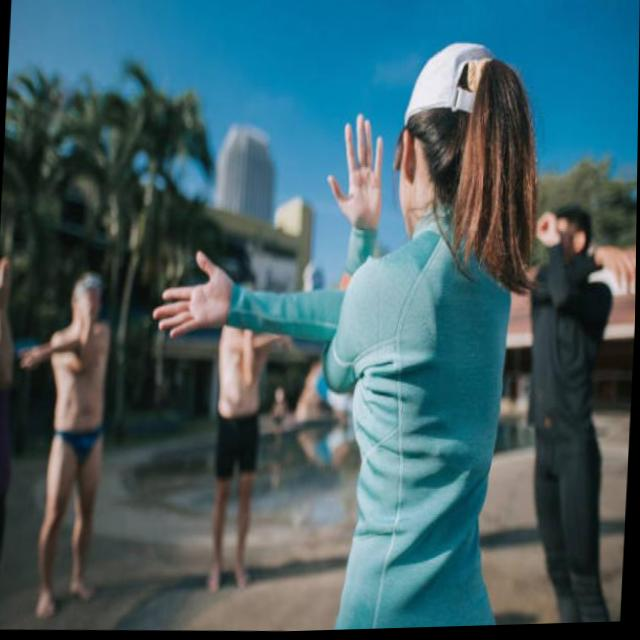no helmet: (366, 0, 527, 274)
